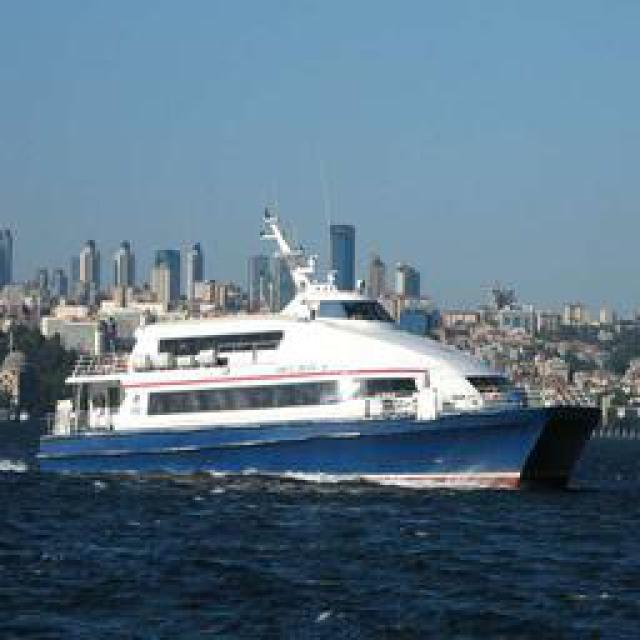Ship: (33, 308, 598, 483)
